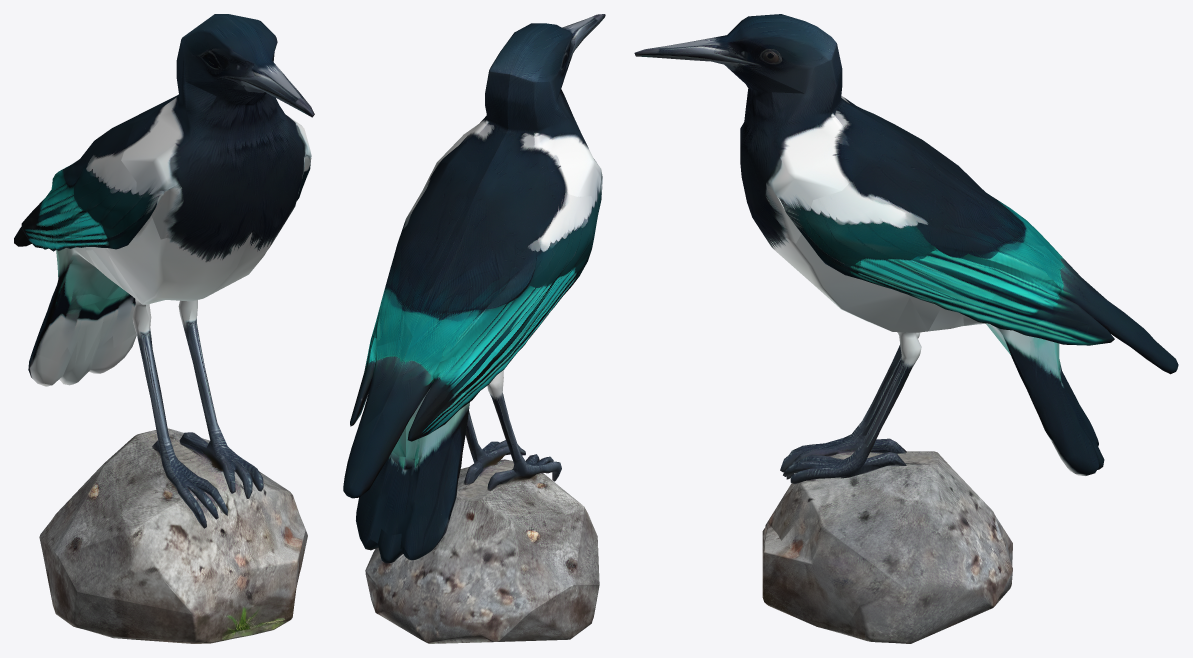
The model's file is npc_magpie.glb.
The picture shows the model from 3 angles, left to right: view 1: azimuth 30°, elevation 25°; view 2: azimuth 150°, elevation 25°; view 3: azimuth 270°, elevation 25°; orthographic projection. The views are drawn at different scales.
Bounding box in the file's own units: 0.7319 × 1.91 × 1.61.
Materials: 1 (1 with a texture image).
